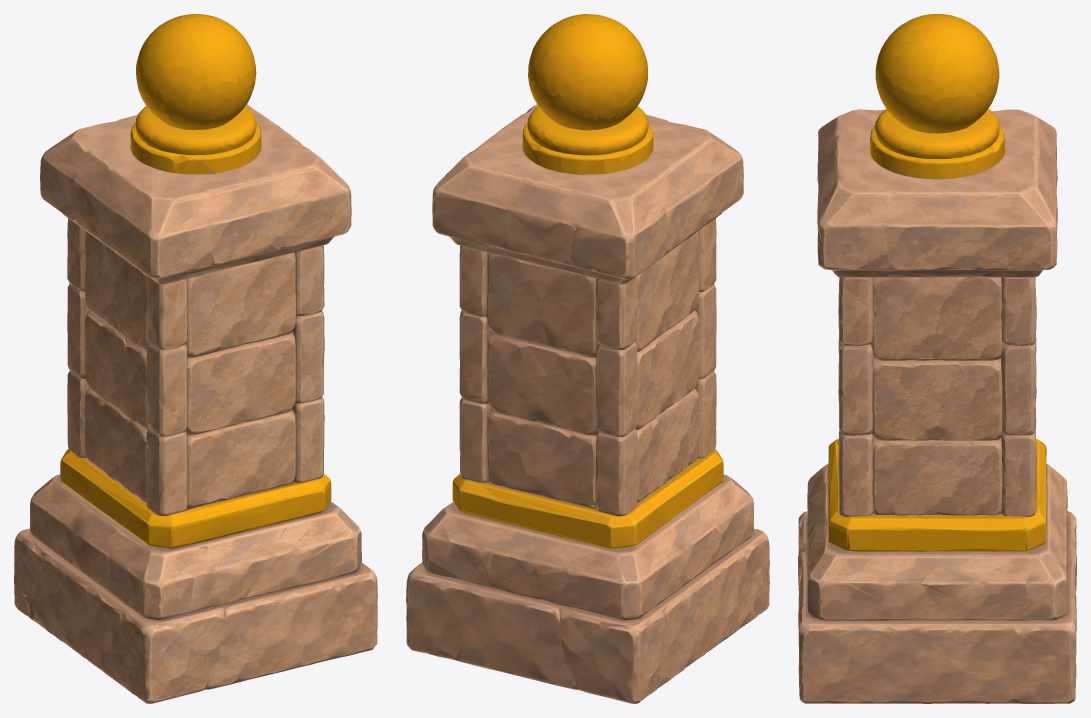
The model's file is iso-pier.glb.
3 views of the same model, side by side, from view 1: azimuth 30°, elevation 25°; view 2: azimuth 150°, elevation 25°; view 3: azimuth 270°, elevation 25° (orthographic). The views are drawn at different scales.
Parts seen in each view (by area): view 1: Mesh_0; view 2: Mesh_0; view 3: Mesh_0.
Boxes of the visible parts, bbox=[...] form: Mesh_0: bbox=[14, 14, 377, 703]; Mesh_0: bbox=[406, 14, 769, 703]; Mesh_0: bbox=[798, 14, 1076, 703].
Bounding box in the file's own units: 0.7675 × 1.9 × 0.7666.
1 material, 1 textured.
